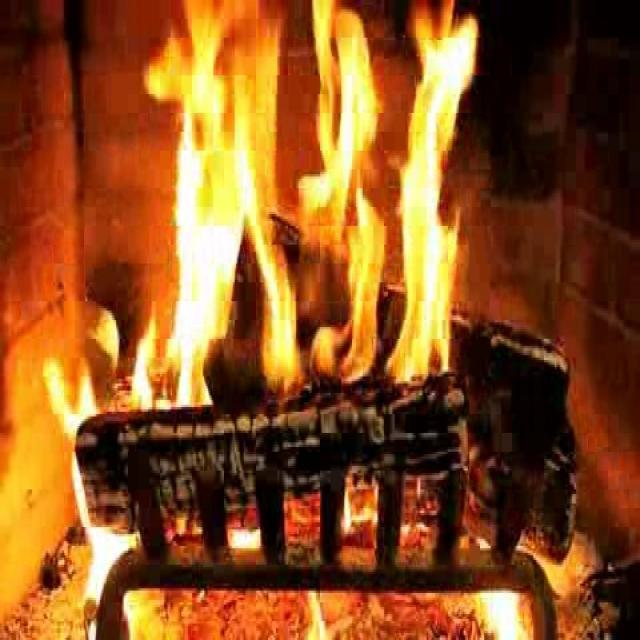Fire: (153, 4, 471, 428)
